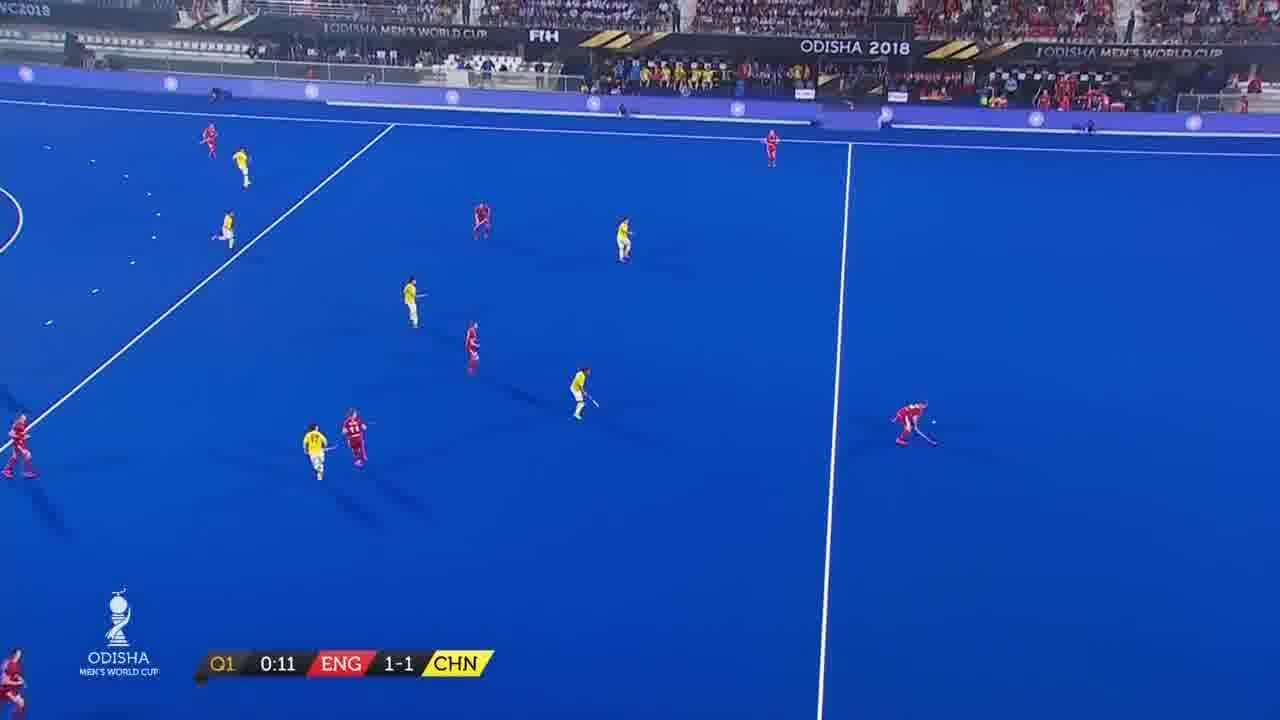ball: (929, 415, 942, 428)
